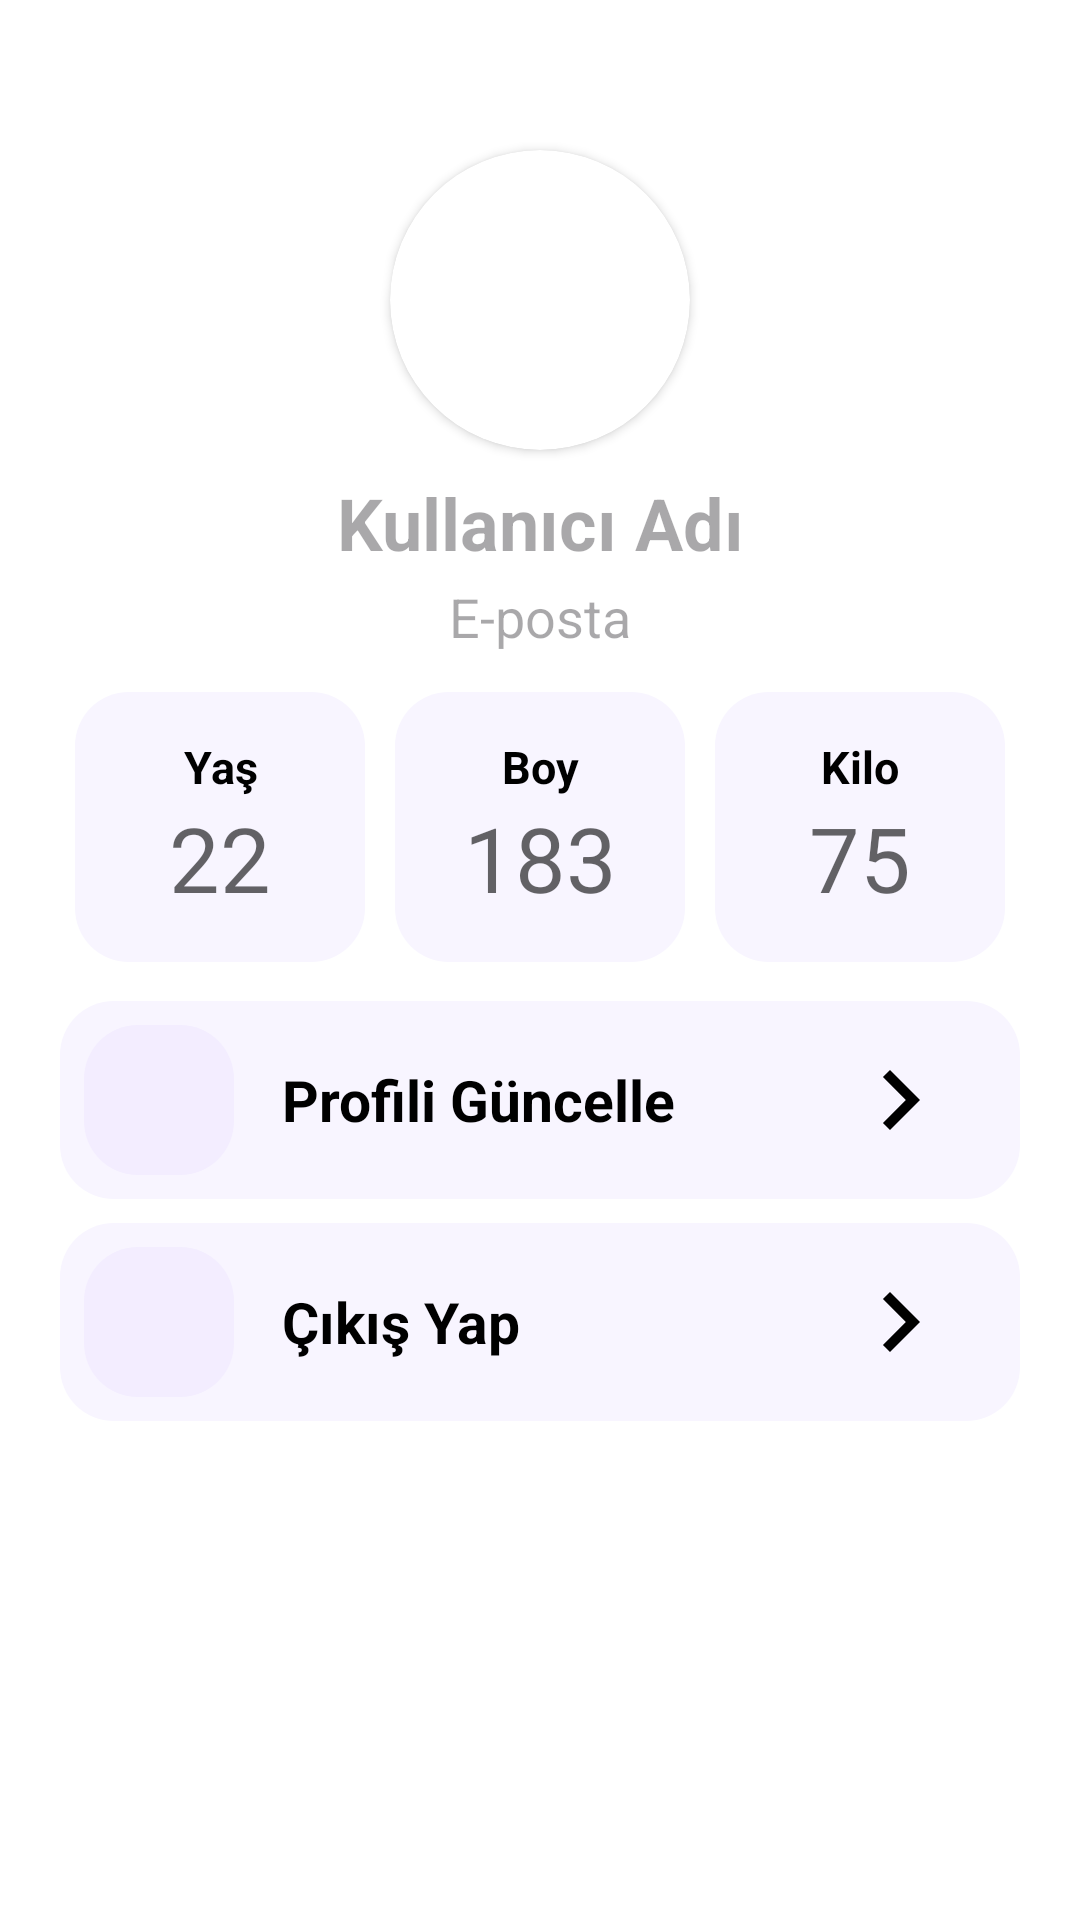

Point at icon controls on the screen. Image size 1080x1920, points as (x,y).
chevron right: (901,1100), (901,1322)
